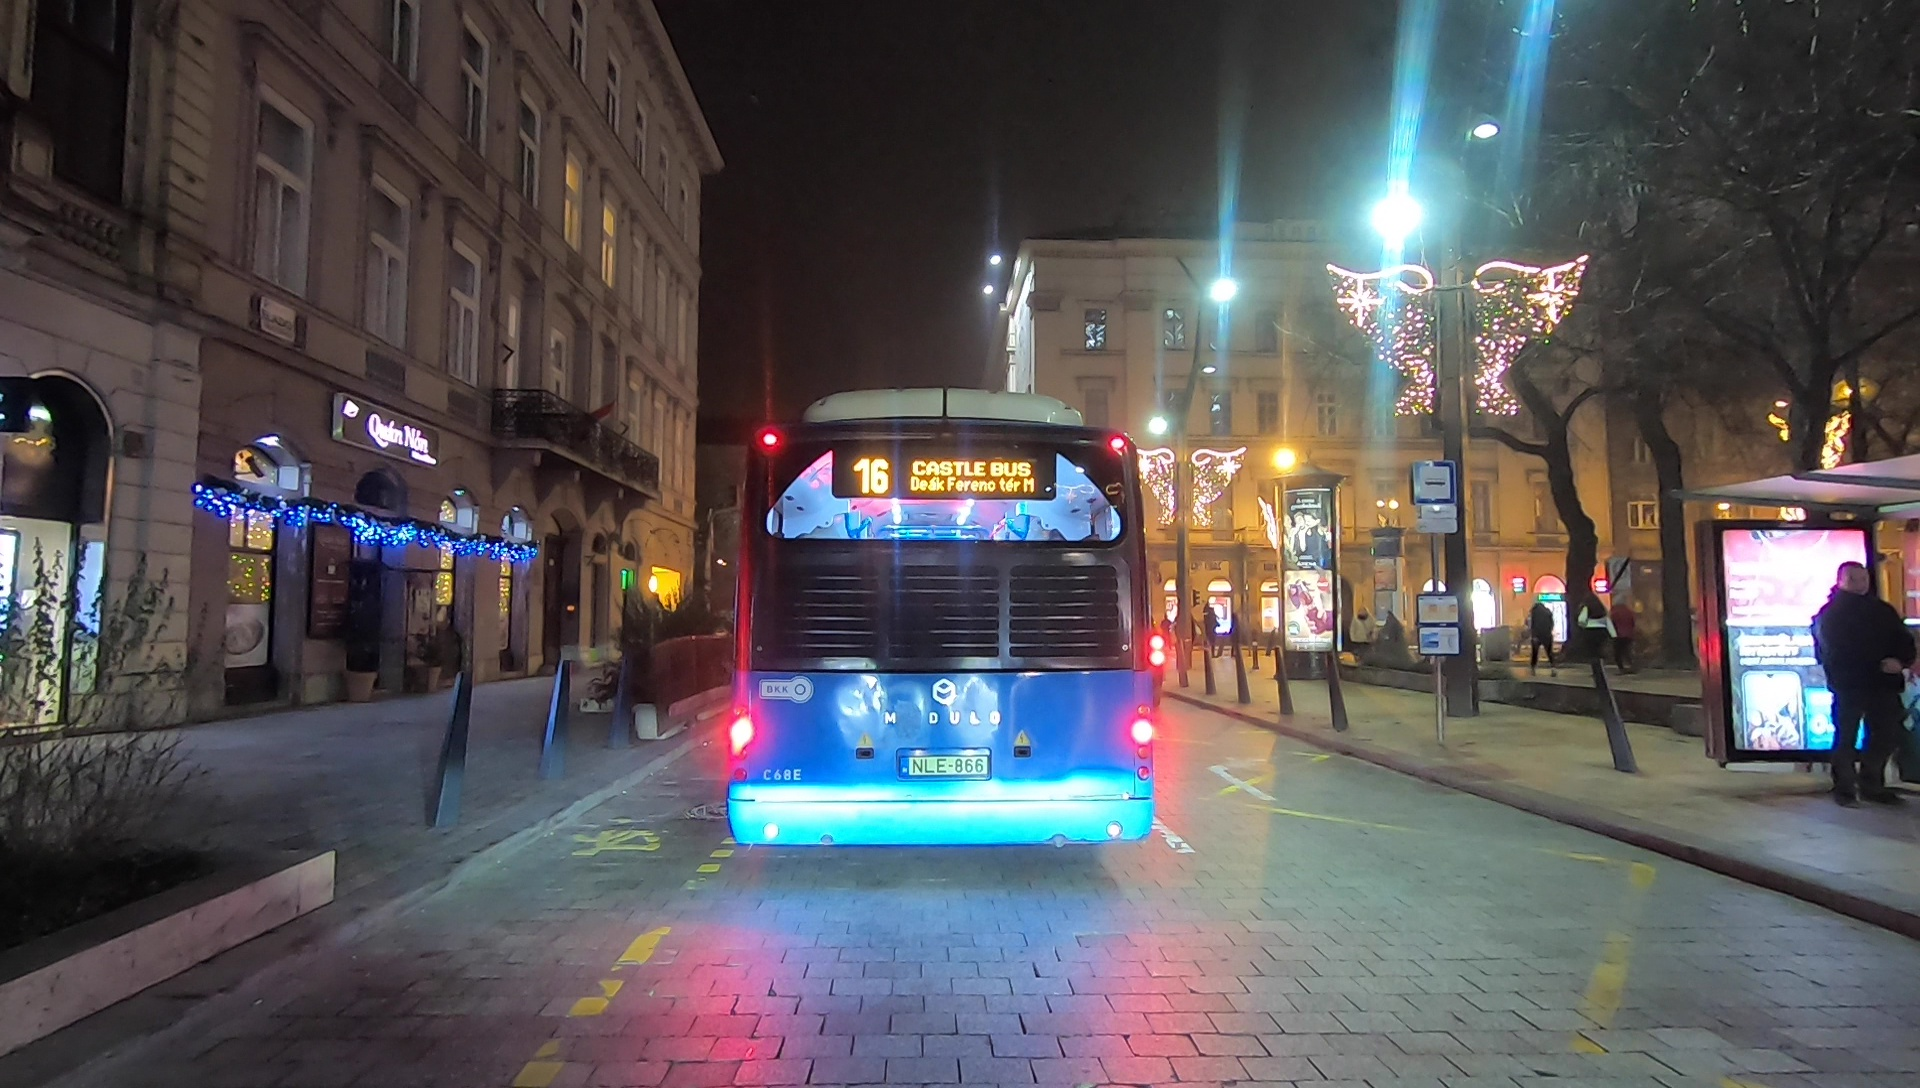person: (1812, 565, 1904, 804), (1526, 601, 1560, 680), (1576, 595, 1609, 670), (1609, 595, 1639, 675)
